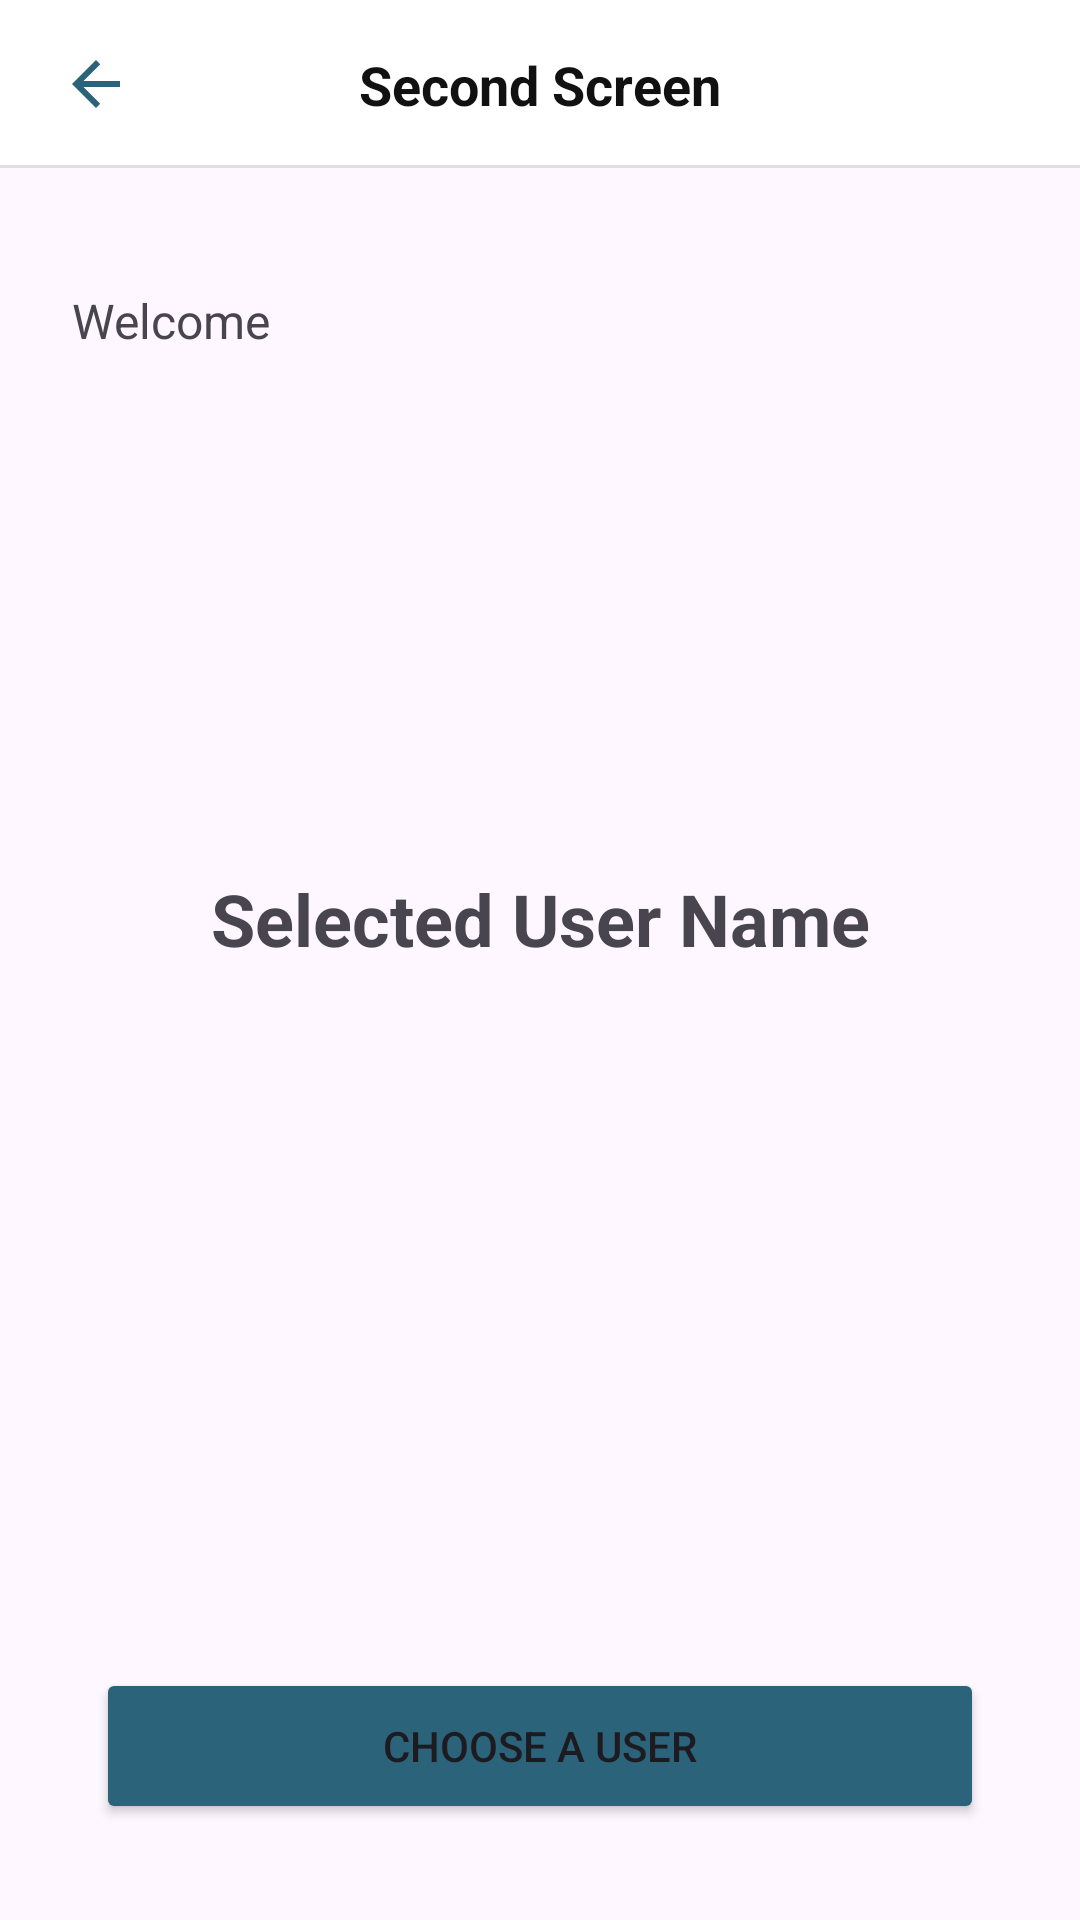

Icons on this 1080 × 1920 Android screen, each with its box as Rect(x1, y1, x2, y2):
Back: Rect(72, 60, 120, 108)
